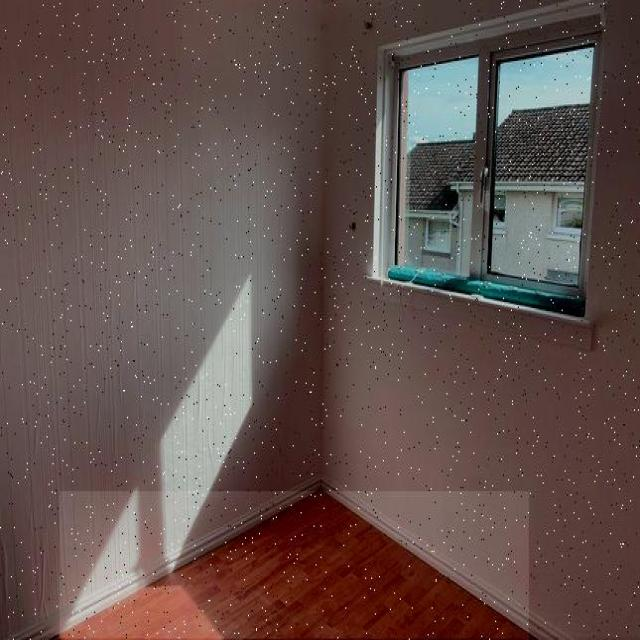Wall: (0, 0, 640, 637), (60, 491, 529, 638), (544, 330, 569, 345), (568, 345, 568, 345)
